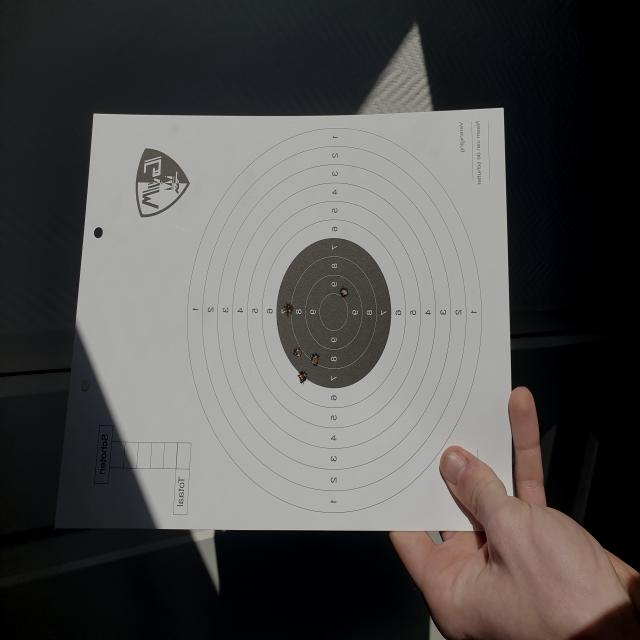10: (338, 288, 349, 299)
7: (298, 370, 308, 384)
8: (284, 302, 294, 317), (310, 353, 320, 367), (293, 344, 303, 358)
Target: (186, 125, 483, 517)
black_contour: (275, 239, 392, 389)
